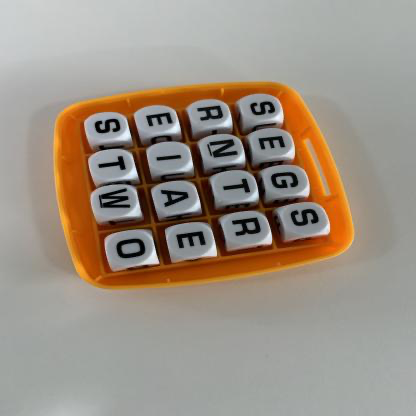a: (154, 181, 198, 214)
e: (168, 224, 215, 258), (252, 129, 293, 158), (136, 107, 178, 134)
g: (266, 167, 310, 196)
i: (148, 142, 192, 171)
n: (201, 135, 244, 164)
o: (108, 232, 154, 267)
r: (226, 212, 271, 246), (189, 100, 231, 128)
s: (284, 204, 328, 237), (87, 113, 129, 142), (241, 95, 283, 121)
t: (91, 150, 136, 181), (215, 172, 258, 203)
w: (92, 185, 139, 219)
